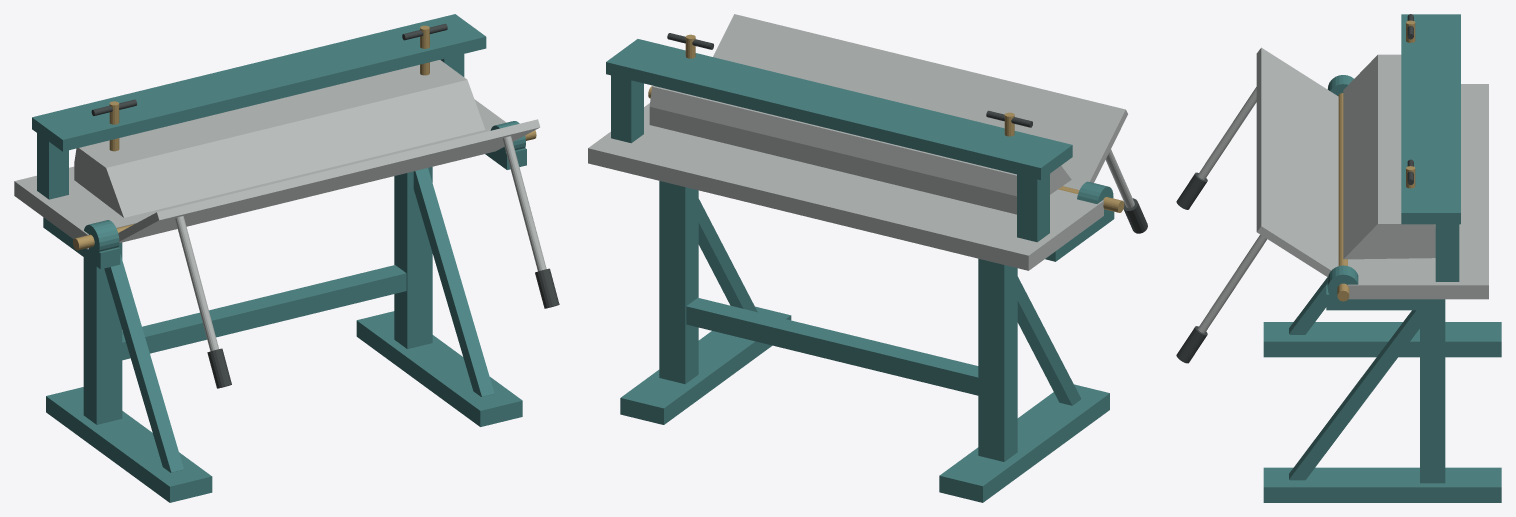
3 views of the same model, side by side, from view 1: azimuth 30°, elevation 25°; view 2: azimuth 150°, elevation 25°; view 3: azimuth 270°, elevation 25° (orthographic). The views are drawn at different scales.
Parts seen in each view (by area): view 1: WholeBevelledClampNose, WholeUpperClampBridge, WholeRaisedFrontApron, WholeLowerLongitudinalTie, WholeTransverseGroundSoleRight, WholeTransverseGroundSoleLeft, WholeFrameUprightLeft, WholeFrameUprightRight, WholeWideFixedBed, WholeForwardFrameBraceRight, WholeForwardFrameBraceLeft, WholeRearClampSupportLeft (+6 smaller); view 2: WholeWideFixedBed, WholeRaisedFrontApron, WholeUpperClampBridge, WholeBevelledClampNose, WholeLowerLongitudinalTie, WholeFrameUprightLeft, WholeFrameUprightRight, WholeTransverseGroundSoleLeft, WholeTransverseGroundSoleRight, WholeForwardFrameBraceLeft, WholeForwardFrameBraceRight, WholeRearClampSupportLeft (+2 smaller); view 3: WholeRaisedFrontApron, WholeBevelledClampNose, WholeUpperClampBridge, WholeWideFixedBed, WholeTransverseGroundSoleRight, WholeTransverseGroundSoleLeft, WholeFrameUprightRight, WholeForwardFrameBraceRight, WholeRearClampSupportRight, WholeEndBearingPedestalRight, WholeLongApronPivot, WholeFrontApronLeverRight (+5 smaller).
Boxes of the visible parts, bbox=[...] form: WholeBevelledClampNose: bbox=[74, 60, 485, 217]; WholeUpperClampBridge: bbox=[32, 14, 486, 151]; WholeRaisedFrontApron: bbox=[118, 119, 540, 242]; WholeLowerLongitudinalTie: bbox=[122, 265, 406, 360]; WholeTransverseGroundSoleRight: bbox=[356, 311, 522, 426]; WholeTransverseGroundSoleLeft: bbox=[46, 387, 212, 502]; WholeFrameUprightLeft: bbox=[83, 242, 122, 424]; WholeFrameUprightRight: bbox=[394, 167, 432, 348]; WholeWideFixedBed: bbox=[14, 99, 505, 249]; WholeForwardFrameBraceRight: bbox=[413, 168, 494, 396]; WholeForwardFrameBraceLeft: bbox=[104, 254, 183, 472]; WholeRearClampSupportLeft: bbox=[37, 133, 68, 199]; WholeWideFixedBed: bbox=[588, 103, 1103, 270]; WholeRaisedFrontApron: bbox=[713, 14, 1127, 189]; WholeUpperClampBridge: bbox=[606, 39, 1072, 180]; WholeBevelledClampNose: bbox=[649, 86, 1071, 214]; WholeLowerLongitudinalTie: bbox=[686, 298, 978, 395]; WholeFrameUprightLeft: bbox=[978, 258, 1017, 461]; WholeFrameUprightRight: bbox=[659, 181, 698, 384]; WholeTransverseGroundSoleLeft: bbox=[939, 384, 1109, 502]; WholeTransverseGroundSoleRight: bbox=[620, 306, 791, 424]; WholeForwardFrameBraceLeft: bbox=[1017, 276, 1081, 405]; WholeForwardFrameBraceRight: bbox=[698, 199, 757, 312]; WholeRearClampSupportLeft: bbox=[1017, 174, 1049, 242]; WholeRaisedFrontApron: bbox=[1256, 47, 1338, 277]; WholeBevelledClampNose: bbox=[1343, 54, 1435, 259]; WholeUpperClampBridge: bbox=[1401, 14, 1460, 224]; WholeWideFixedBed: bbox=[1348, 84, 1488, 299]; WholeTransverseGroundSoleRight: bbox=[1263, 467, 1501, 502]; WholeTransverseGroundSoleLeft: bbox=[1263, 322, 1501, 357]; WholeFrameUprightRight: bbox=[1420, 299, 1445, 483]; WholeForwardFrameBraceRight: bbox=[1289, 310, 1419, 480]; WholeRearClampSupportRight: bbox=[1435, 224, 1459, 281]; WholeEndBearingPedestalRight: bbox=[1326, 285, 1435, 310]; WholeLongApronPivot: bbox=[1337, 93, 1349, 301]; WholeFrontApronLeverRight: bbox=[1197, 234, 1267, 333].
Bounding box in the file's own units: 1.62 × 1.14 × 1.04.
